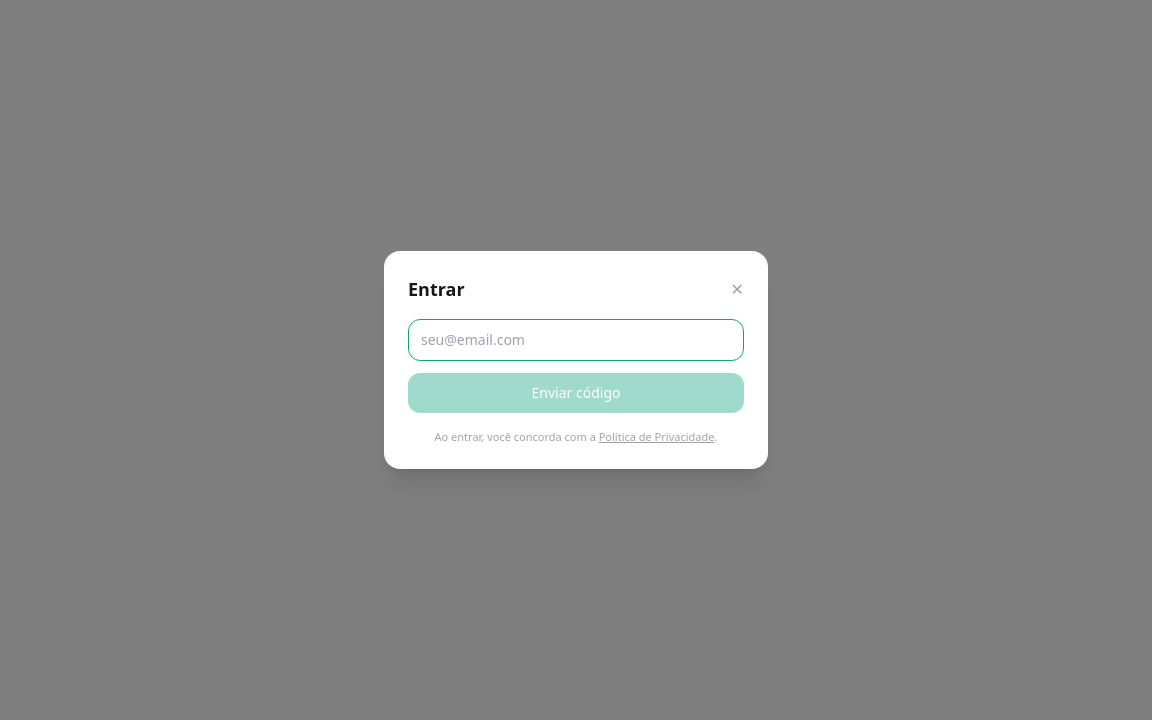
Test: LoginModal › avança da etapa de e-mail para a etapa do código
This screenshot has width=1152, height=720.
Type "maria@exemplo.com" into the field with placeholder "seu@email.com".
click(576, 340); type("maria@exemplo.com")  # box [408,319,744,361]
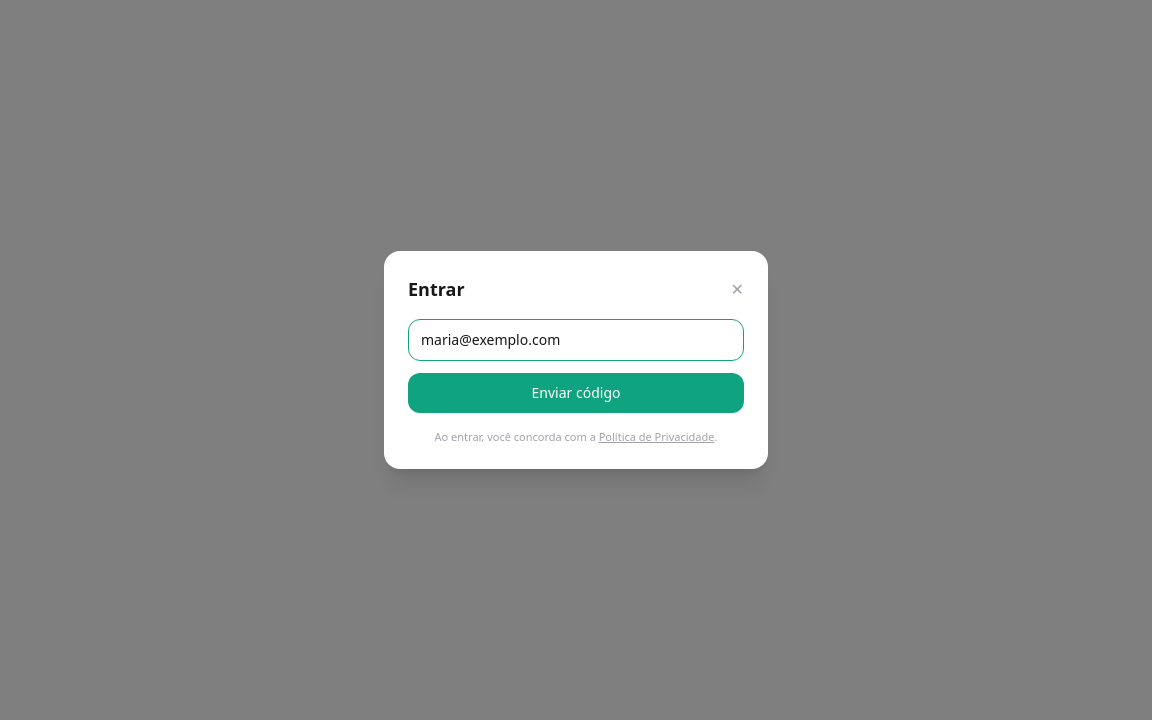
Click the button "Enviar código".
click(576, 393)  # box [408,373,744,413]
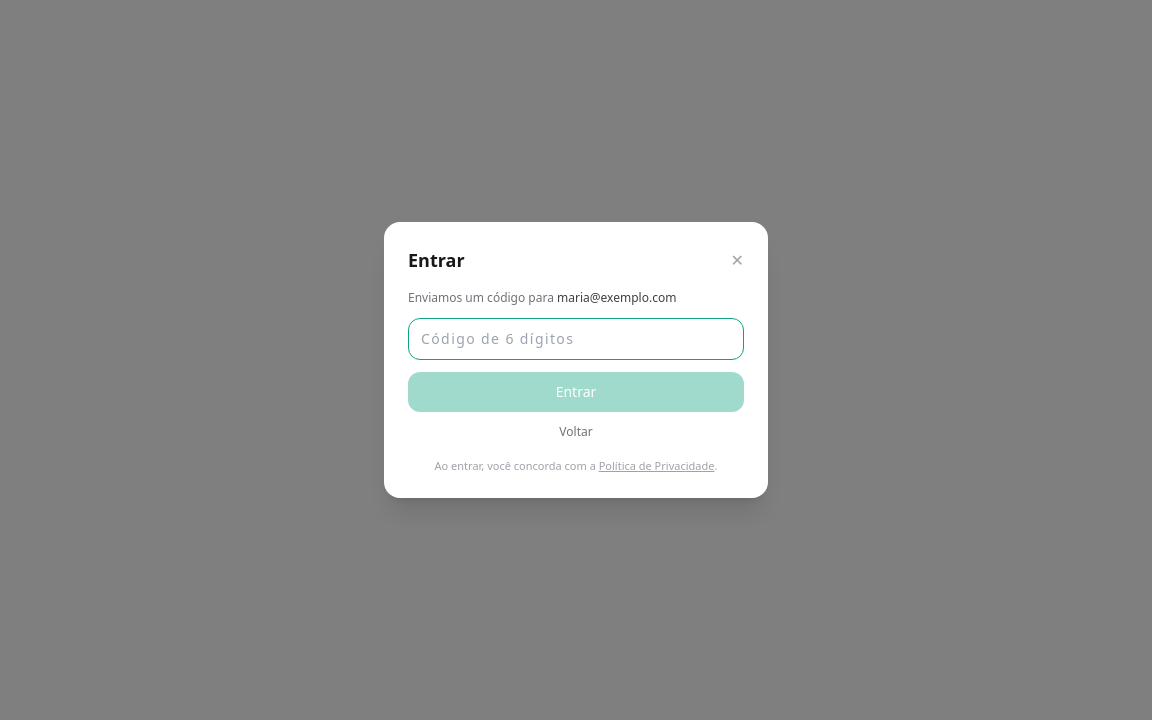
Result: the field with placeholder "Código de 6 dígitos" is shown at [408,318,744,360]
Result: the text "maria@exemplo.com" is shown at [557,289,676,306]
